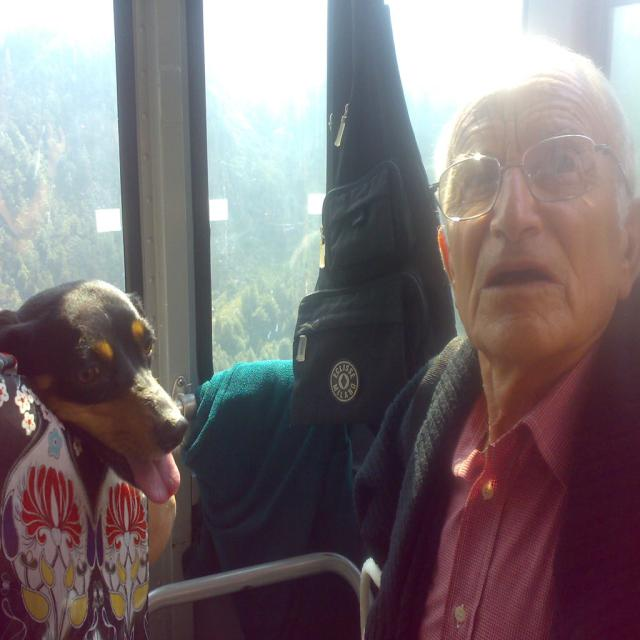Dog: (0, 277, 189, 564)
